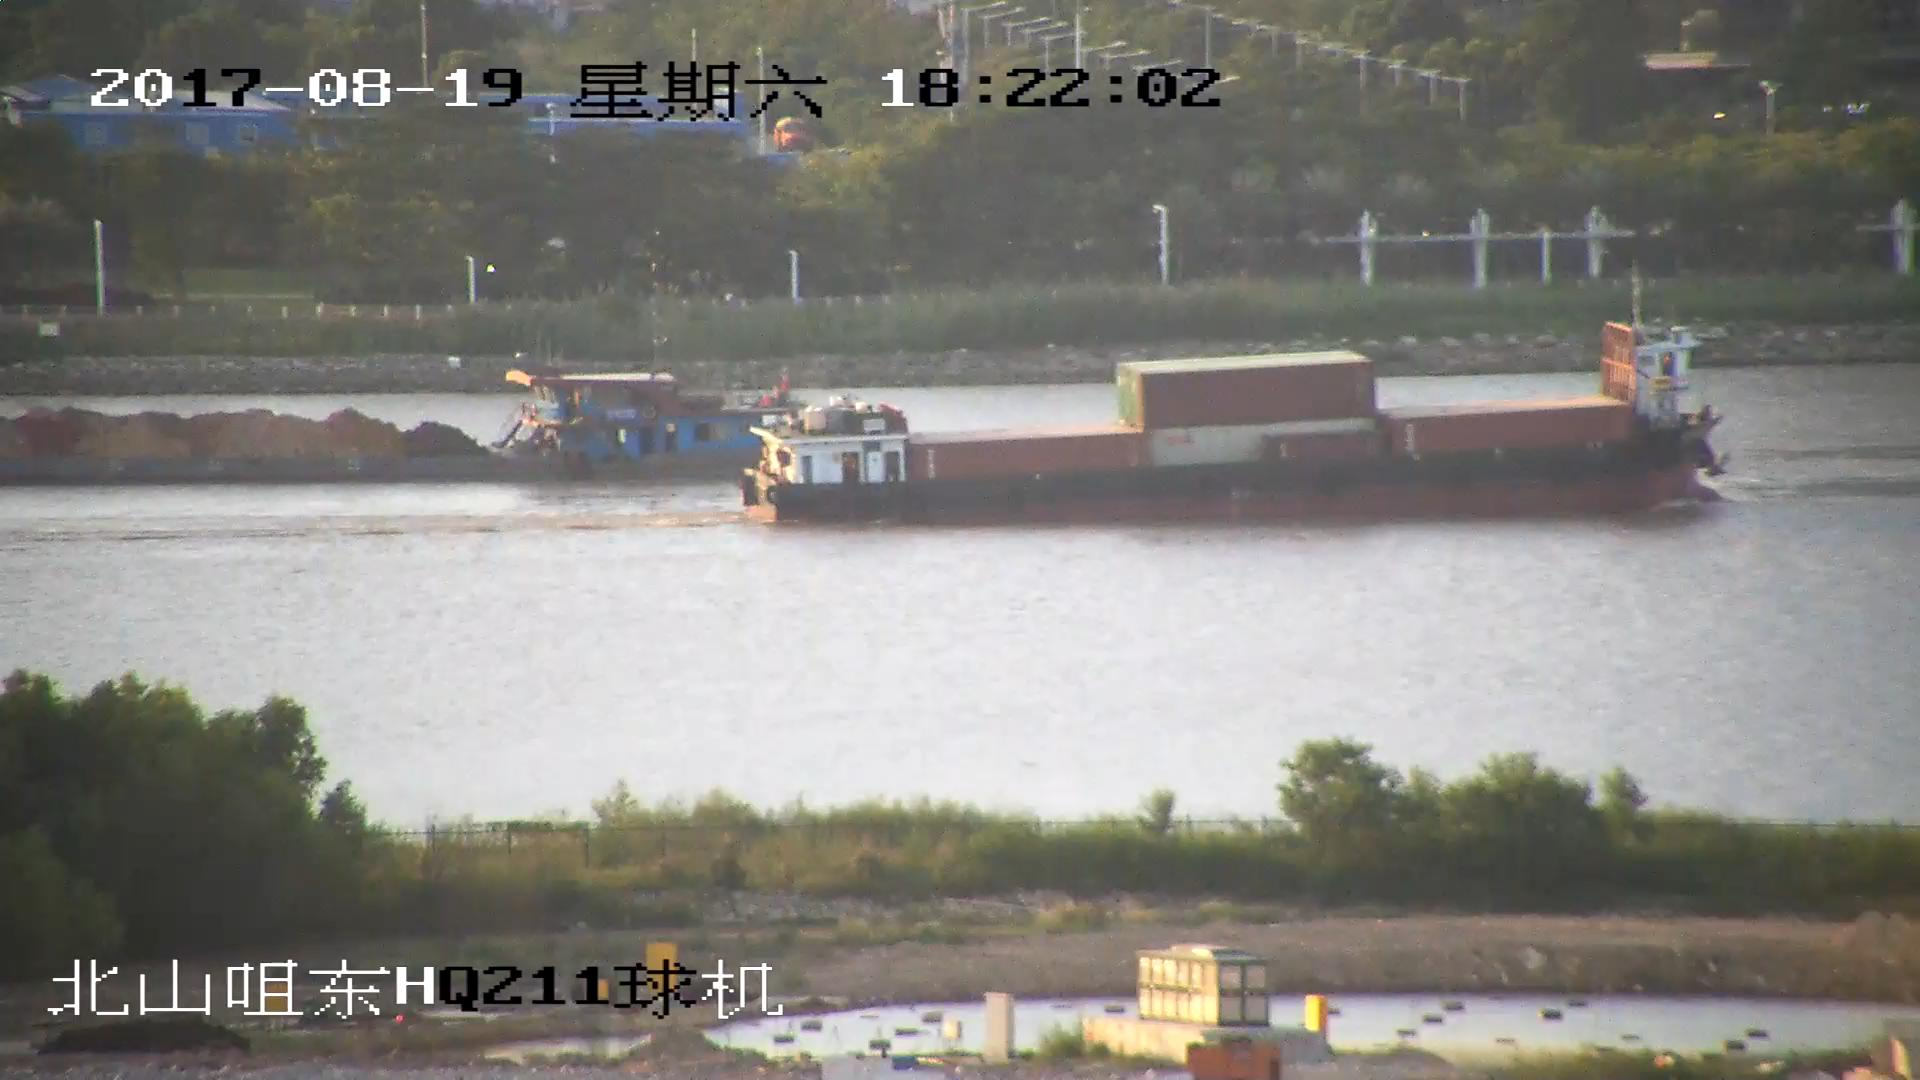container ship: (744, 305, 1727, 526)
ore carrier: (1, 360, 737, 477)
